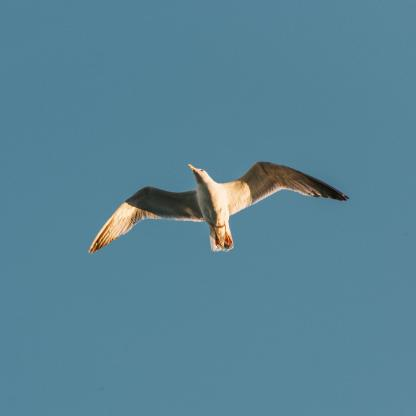bird: (87, 160, 352, 254)
